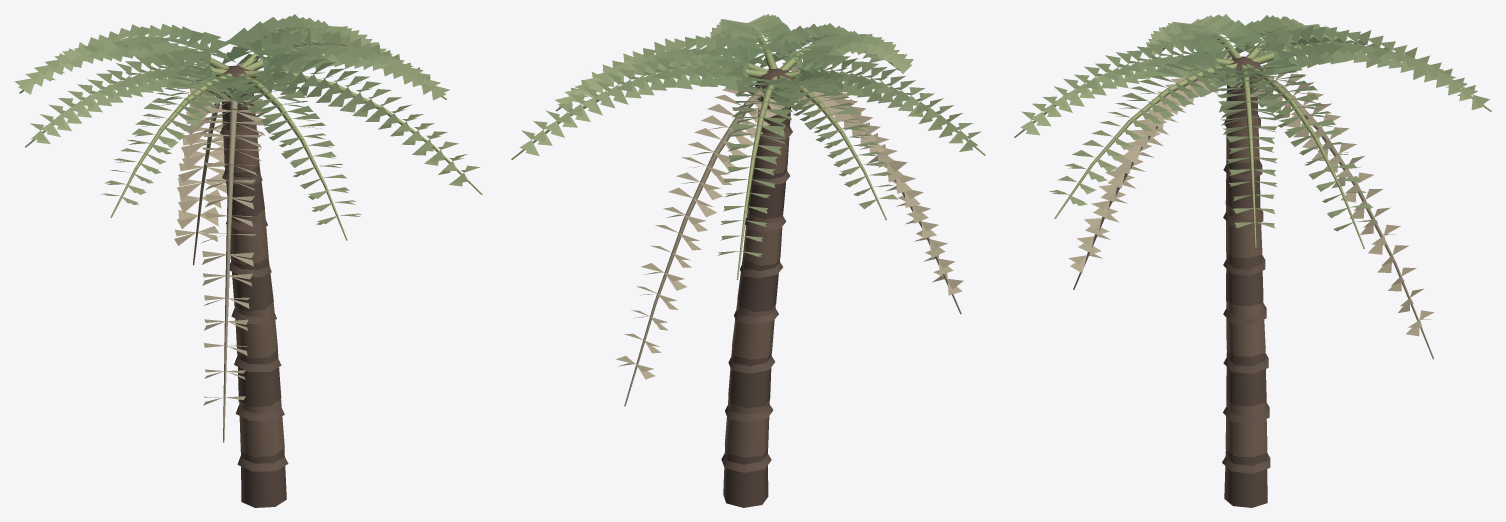
Rendered from palm.glb.
The picture shows the model from 3 angles, left to right: view 1: azimuth 30°, elevation 25°; view 2: azimuth 150°, elevation 25°; view 3: azimuth 270°, elevation 25°; orthographic projection. The views are drawn at different scales.
Parts seen in each view (by area): view 1: palm; view 2: palm; view 3: palm.
Boxes of the visible parts, box(x1,y1,x2,y2) form: palm: box(14, 14, 482, 507); palm: box(511, 14, 985, 507); palm: box(1014, 14, 1491, 507).
Size of the model in its own units: 4.77 by 5.29 by 5.24.
